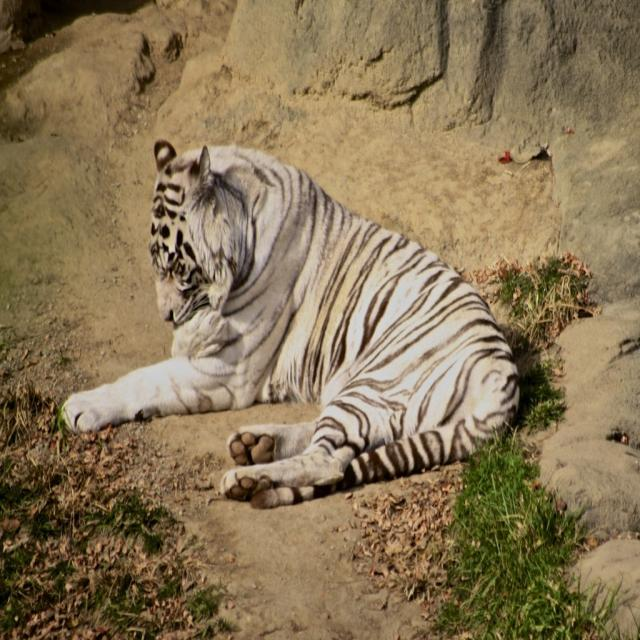Tiger: (59, 138, 521, 510)
